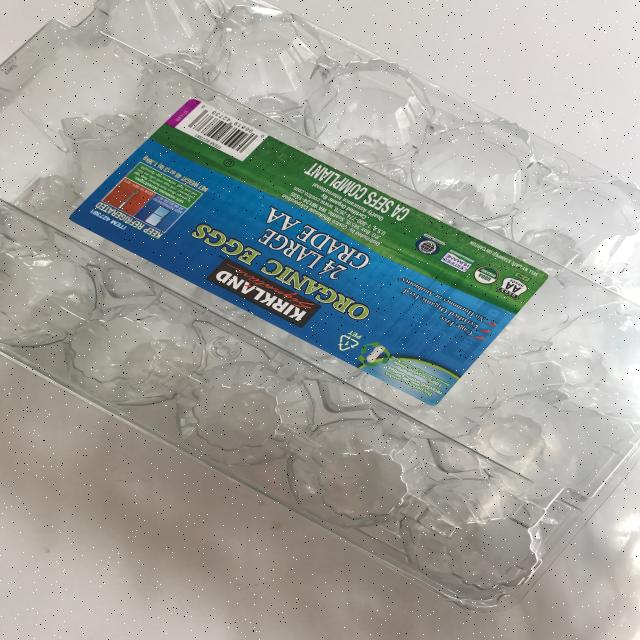plastic: (1, 1, 639, 614)
